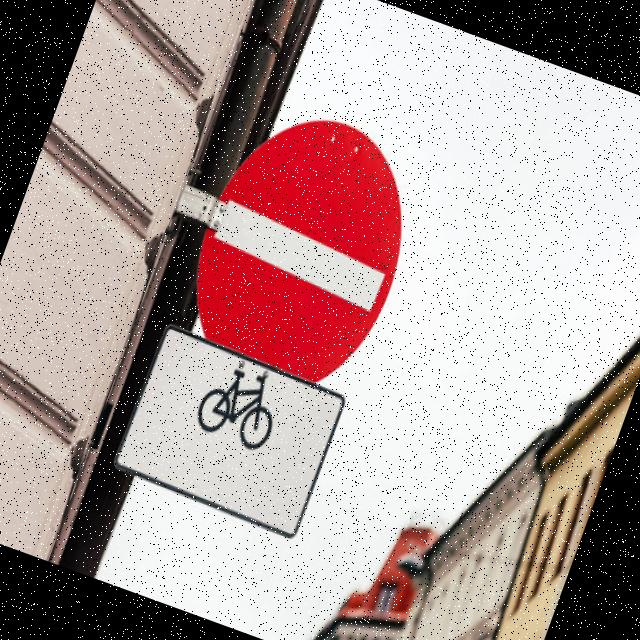do_not_enter: (150, 79, 448, 408)
